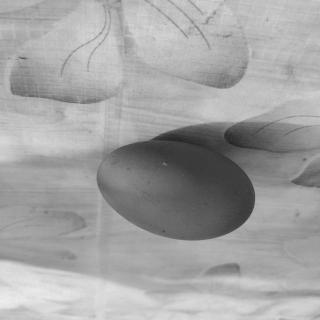Telur: (94, 139, 260, 244)
